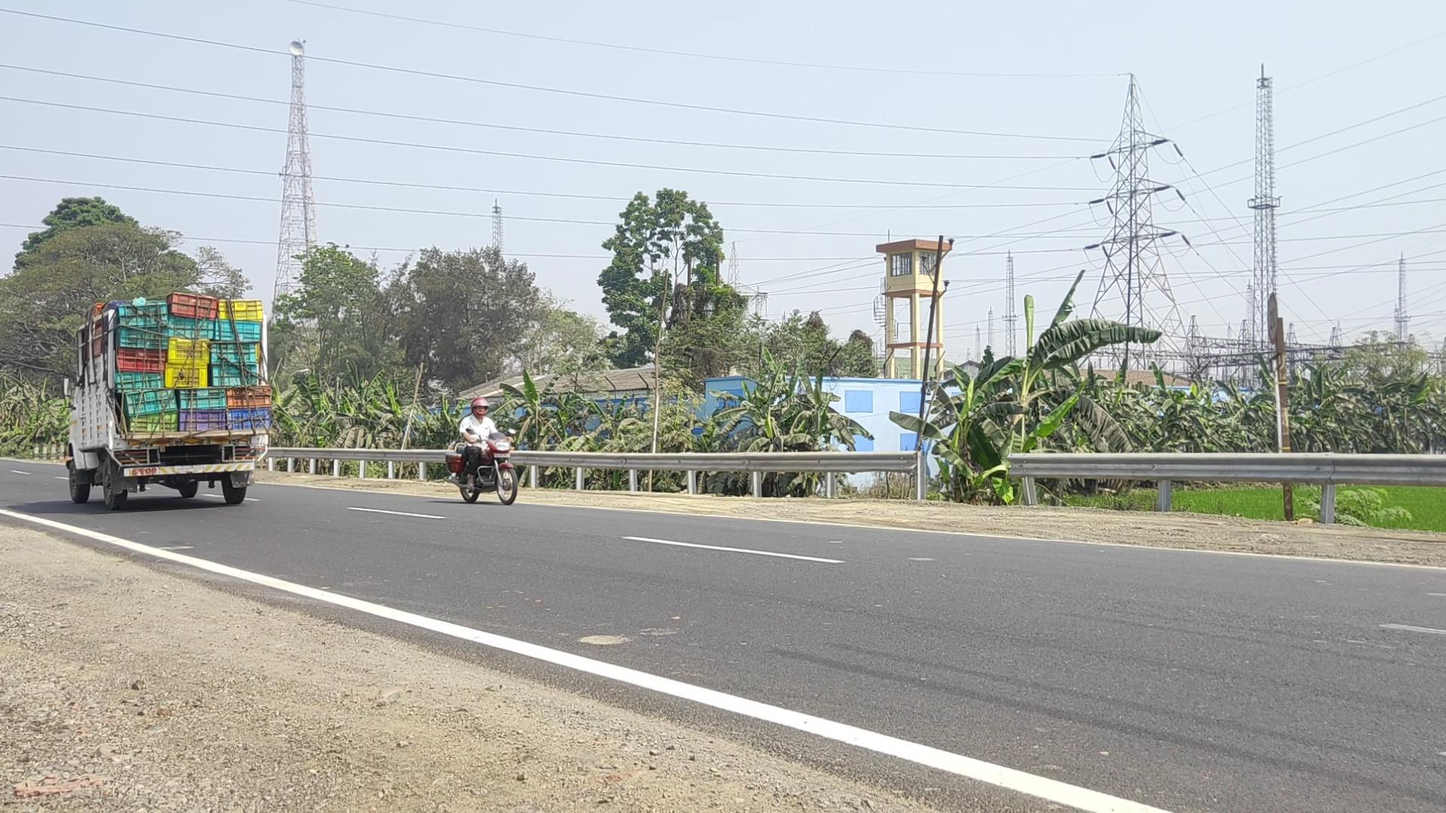bike: (444, 396, 518, 505)
truck: (62, 293, 272, 510)
